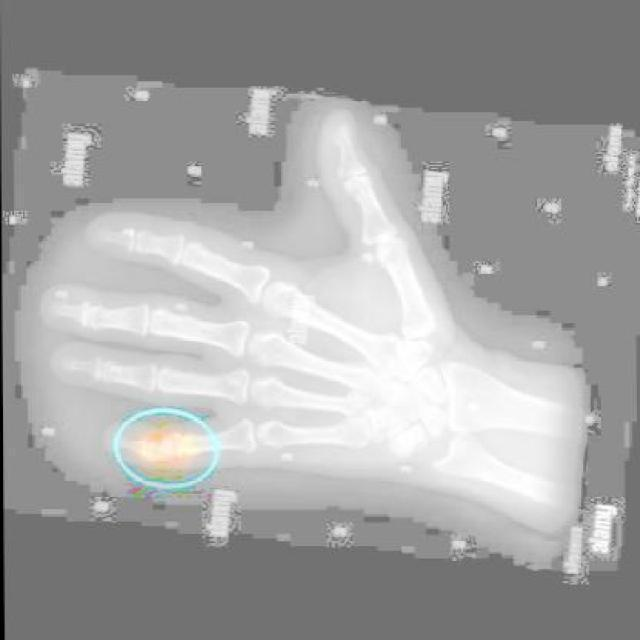Fracture: (126, 423, 187, 476)
